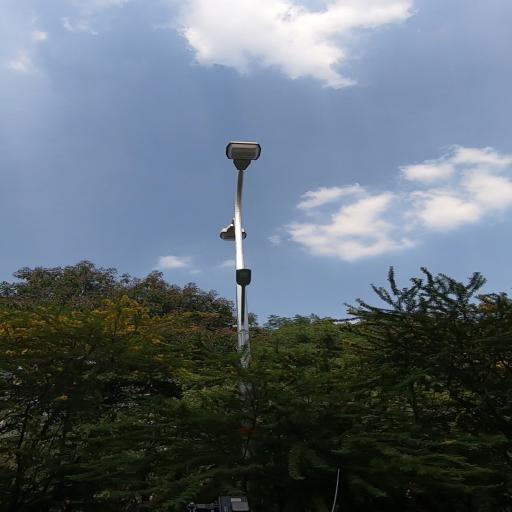Street_light: (220, 138, 265, 186), (230, 264, 260, 296)
